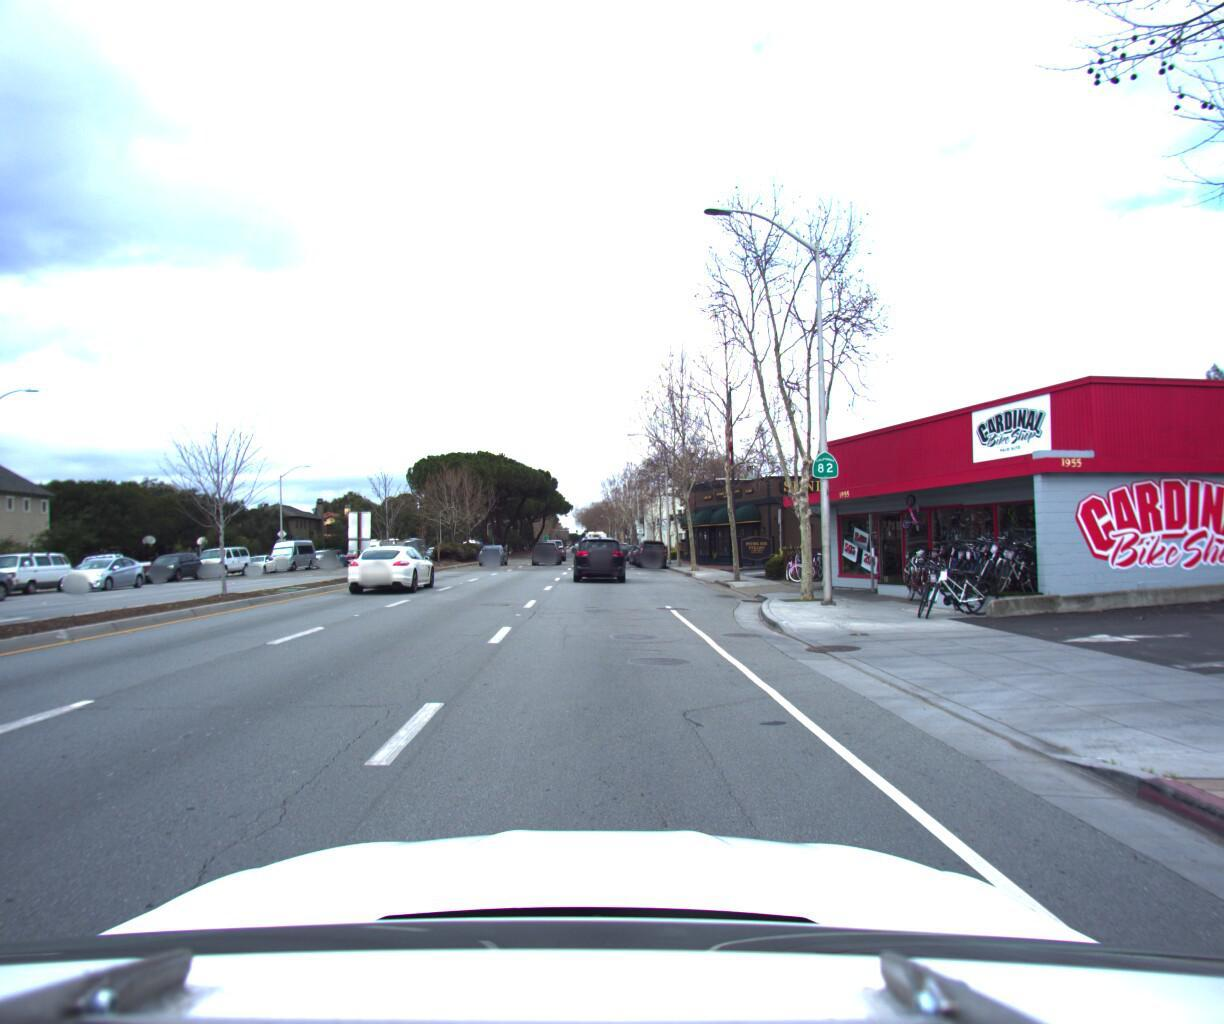bicycle: (919, 549, 1006, 612), (908, 551, 994, 613), (987, 527, 1068, 587), (963, 525, 1041, 586), (974, 530, 1053, 587), (954, 530, 1030, 585), (943, 530, 1018, 584), (934, 530, 1007, 584), (924, 534, 948, 581), (906, 534, 928, 579), (800, 539, 829, 574)
car: (344, 536, 440, 590), (63, 541, 158, 585), (56, 549, 151, 587), (569, 526, 625, 578), (142, 543, 210, 578), (191, 539, 257, 573), (265, 529, 322, 566), (236, 545, 284, 569), (635, 531, 671, 562), (529, 529, 561, 556), (305, 541, 343, 561), (476, 534, 506, 558)
